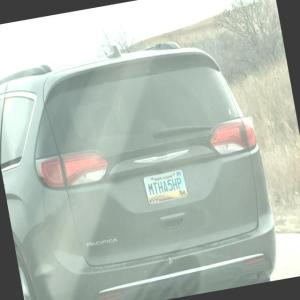Plate: (143, 169, 188, 204)
